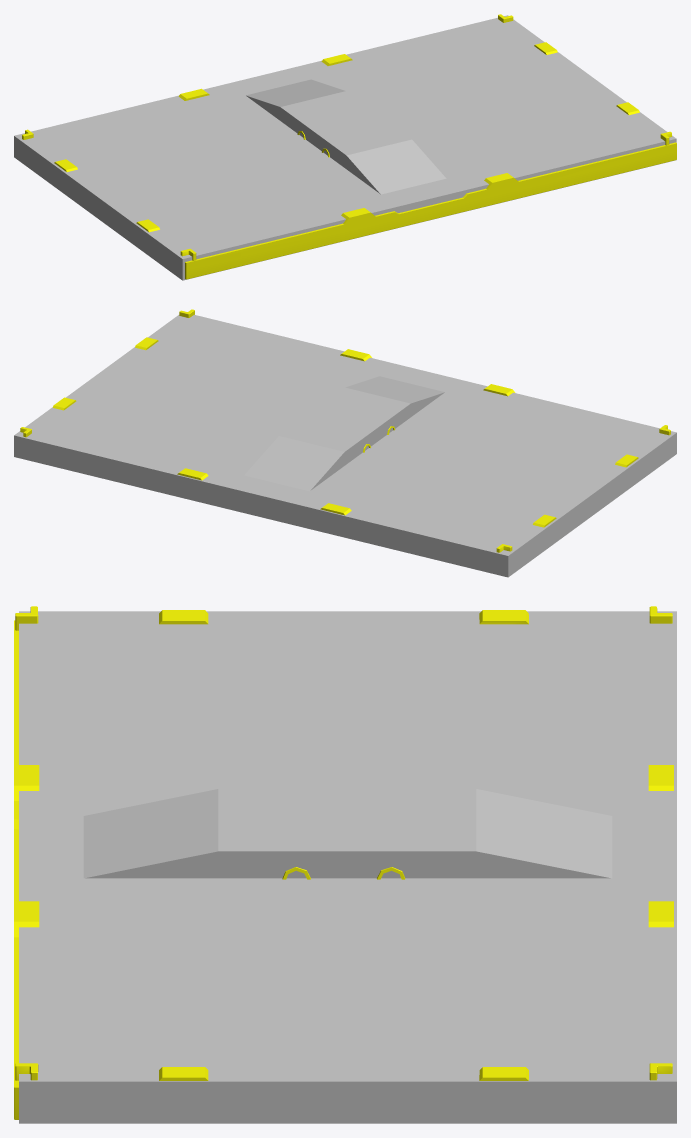
The model's file is sm_hana_building_info_guide_display.glb.
3 renders of one model, top to bottom at view 1: azimuth 30°, elevation 25°; view 2: azimuth 150°, elevation 25°; view 3: azimuth 270°, elevation 25°, orthographic. The views are drawn at different scales.
Parts seen in each view (by area): view 1: sm_color_common, sm_hana_building_info_guide_display; view 2: sm_color_common, sm_hana_building_info_guide_display; view 3: sm_color_common, sm_hana_building_info_guide_display.
Boxes of the visible parts, x1,y1,x2,y2 form: sm_color_common: (14,15,676,280); sm_hana_building_info_guide_display: (22,14,676,279); sm_color_common: (14,314,676,577); sm_hana_building_info_guide_display: (20,309,670,552); sm_color_common: (19,611,676,1123); sm_hana_building_info_guide_display: (14,606,673,1119).
Size of the model in its own units: 3.66 by 0.2505 by 2.18.
2 materials, 1 textured.
